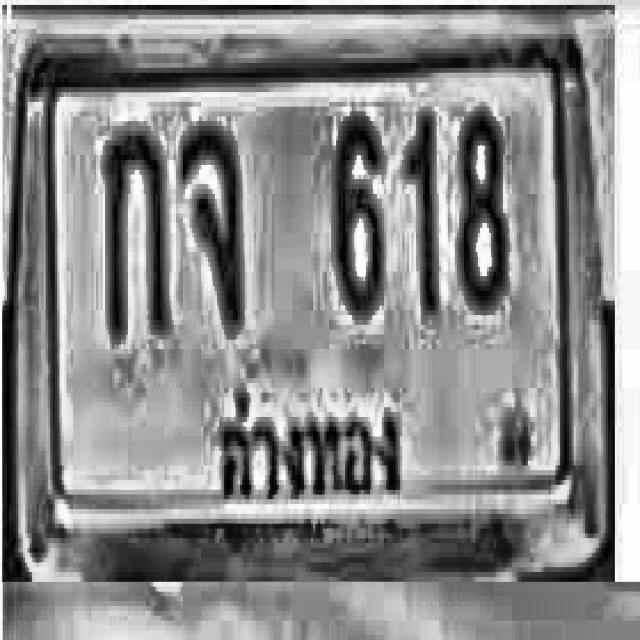license-plate: (11, 18, 615, 581)
